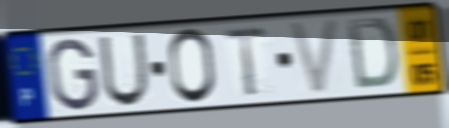D: (345, 16, 400, 92)
G: (45, 36, 101, 114)
O: (166, 26, 219, 107)
T: (223, 24, 270, 100)
U: (96, 32, 150, 110)
V: (286, 16, 343, 98)
